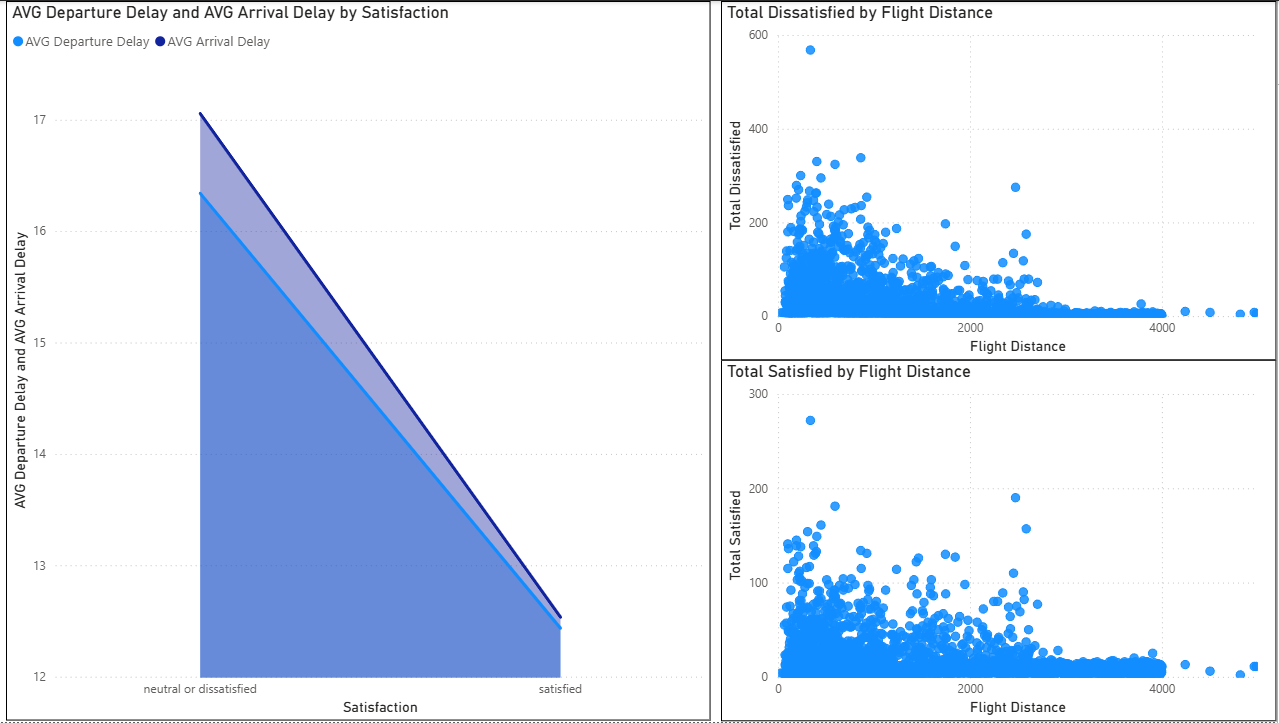

The dashboard page shown, as its layout file describes it:
{"tool":"powerbi","page":{"name":"Travel & Delay Insights","canvas":[1280,720],"ordinal":3},"visuals":[{"type":"areaChart","fields":{"Category":["flight_customer.satisfaction"],"Y":["flight_customer.AVG Departure Delay","flight_customer.AVG Arrival Delay"]},"box":[10.3,0,704.1,719.5],"z":0},{"type":"scatterChart","fields":{"X":["flight_customer.flight_distance"],"Y":["flight_customer.Total Satisfied"]},"box":[724.6,358.9,555.4,360.6],"z":1000},{"type":"scatterChart","fields":{"X":["flight_customer.flight_distance"],"Y":["flight_customer.Total Dissatisfied"]},"box":[724.6,0,555.4,358.9],"z":2000}]}

Visuals, with their boxes in screenshot pixels (x1, y1, x2, y2), scaled from the page's 1280x720 canvas onto the 1279x723 screenshot:
areaChart - flight_customer.satisfaction x flight_customer.AVG Departure Delay: (10, 0, 714, 722)
scatterChart - flight_customer.flight_distance x flight_customer.Total Satisfied: (724, 360, 1278, 722)
scatterChart - flight_customer.flight_distance x flight_customer.Total Dissatisfied: (724, 0, 1278, 360)
